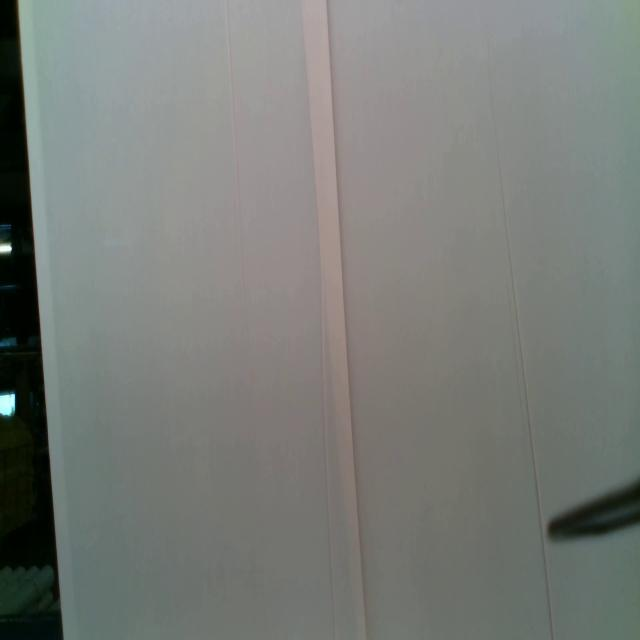crease: (480, 17, 554, 636), (326, 0, 370, 640), (300, 0, 336, 640), (225, 0, 252, 346)
